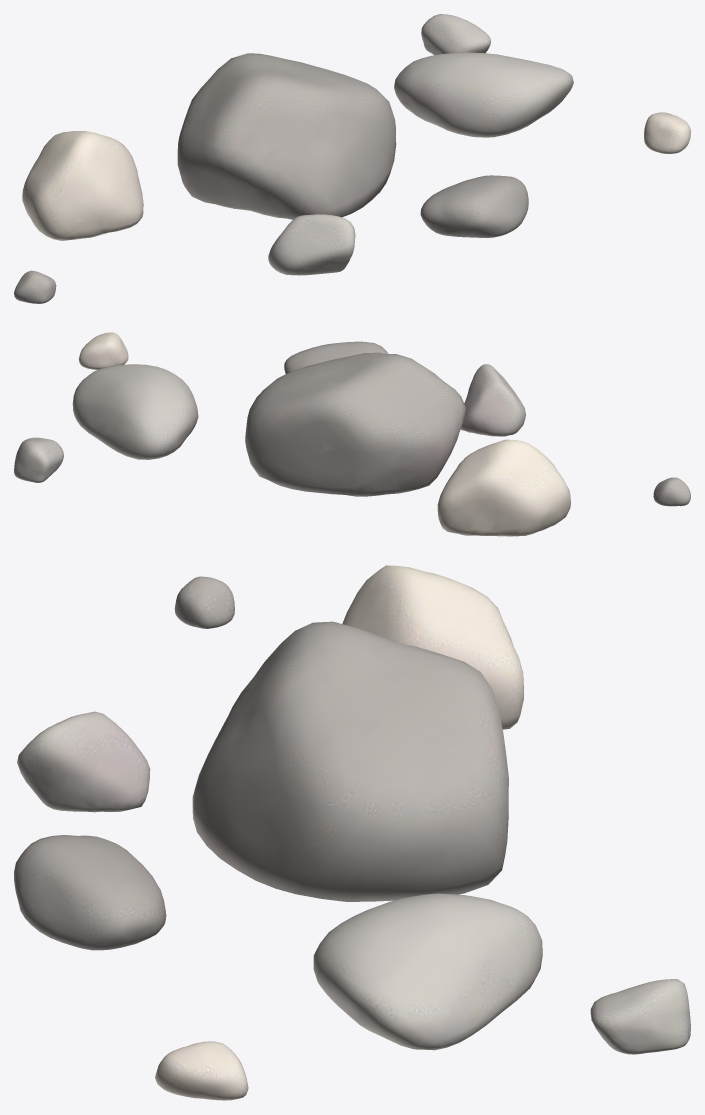
Rendered from rocks.glb.
3 views of the same model, one above another, from view 1: azimuth 30°, elevation 25°; view 2: azimuth 150°, elevation 25°; view 3: azimuth 270°, elevation 25° (orthographic). The views are drawn at different scales.
Parts seen in each view (by area): view 1: small-rock-set_body; view 2: small-rock-set_body; view 3: small-rock-set_body.
Part boxes in pixels (x1=…): small-rock-set_body: x1=14, y1=14, x2=690, y2=303; small-rock-set_body: x1=14, y1=332, x2=690, y2=536; small-rock-set_body: x1=14, y1=565, x2=690, y2=1100.
Bounding box in the file's own units: 0.9536 × 0.17 × 0.5427.
Materials: 1 (1 with a texture image).
